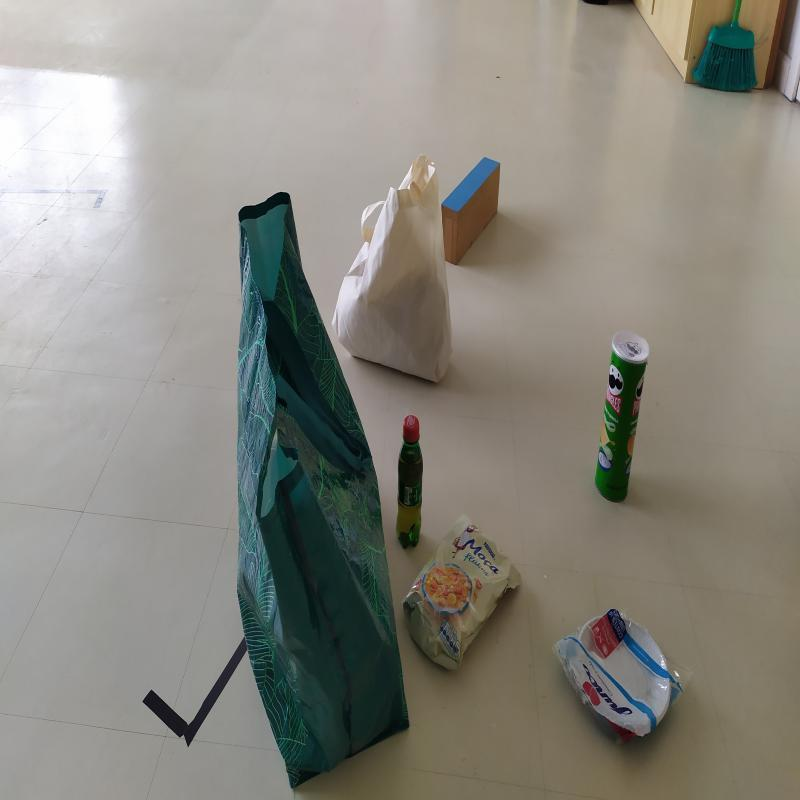Bag: (234, 193, 411, 792), (332, 156, 458, 376)
CornFlakes: (402, 516, 522, 672)
Guarana: (399, 414, 427, 548)
Plate: (571, 612, 672, 741)
Pringles: (597, 329, 652, 504)
